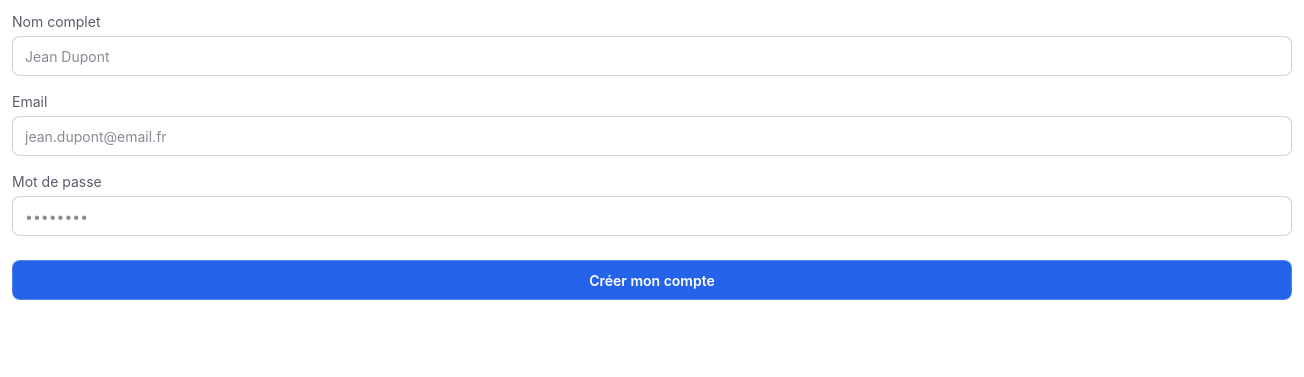
Test: SignupForm › affiche une erreur par champ sur soumission vide
Click the button "Créer mon compte".
click(652, 280)  # box [12, 260, 1292, 300]
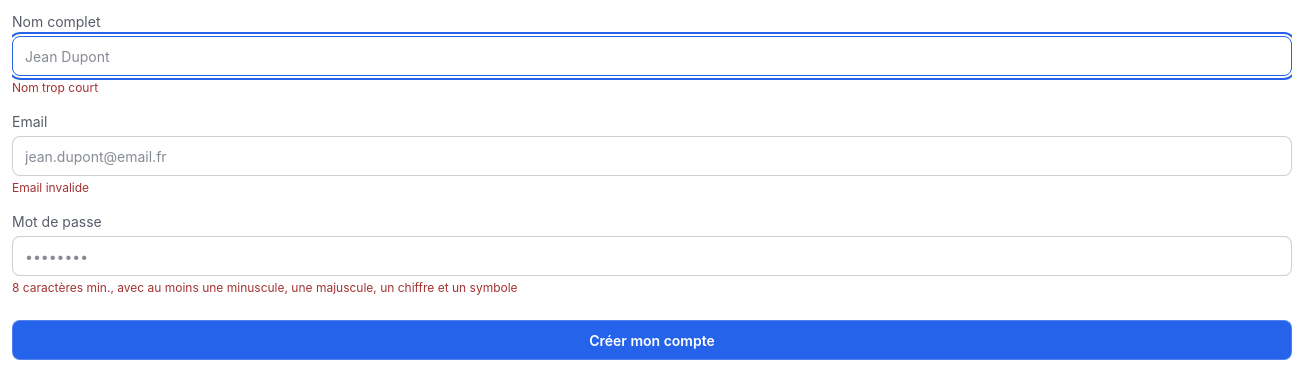
Expected: the number of messages is 3, [12, 80, 98, 95]; [12, 180, 89, 195]; [12, 280, 518, 295]
Expected: the text "Nom trop court" is shown, [12, 12, 1292, 96]
Expected: the text "Email invalide" is shown, [12, 112, 1292, 196]
